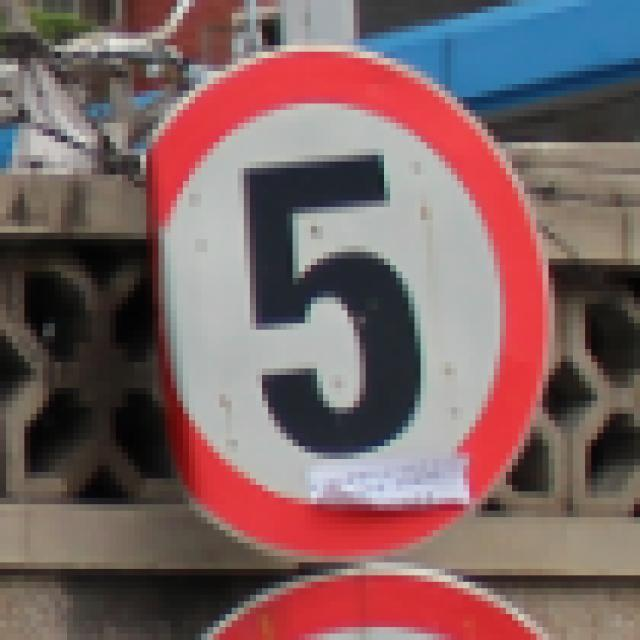Speed: (132, 51, 590, 573)
